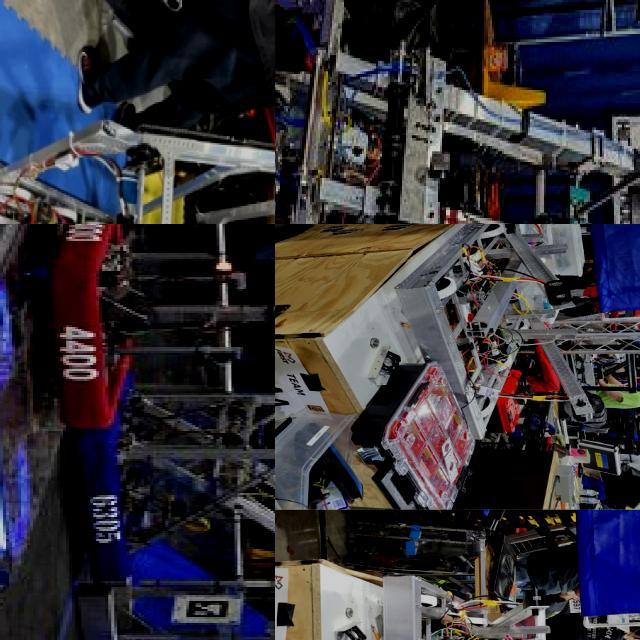FRC-Robots: (275, 0, 640, 224), (389, 224, 629, 451), (78, 237, 275, 444), (0, 88, 275, 224), (57, 426, 275, 584), (377, 564, 589, 640)
